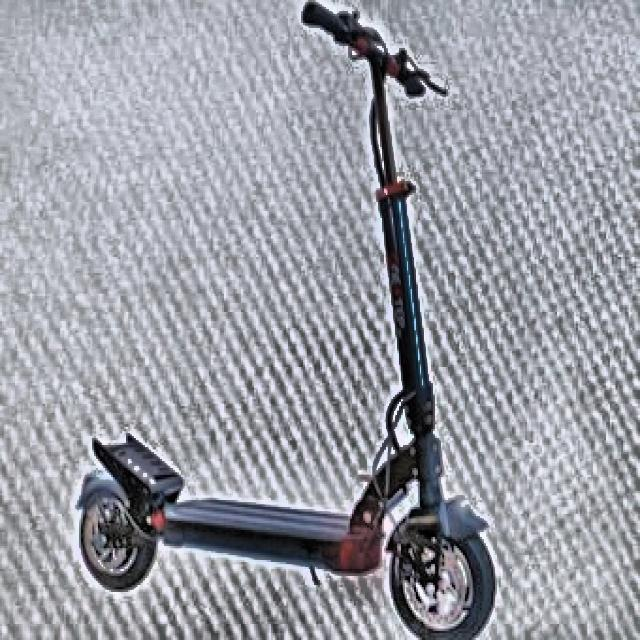bike: (74, 5, 501, 640)
